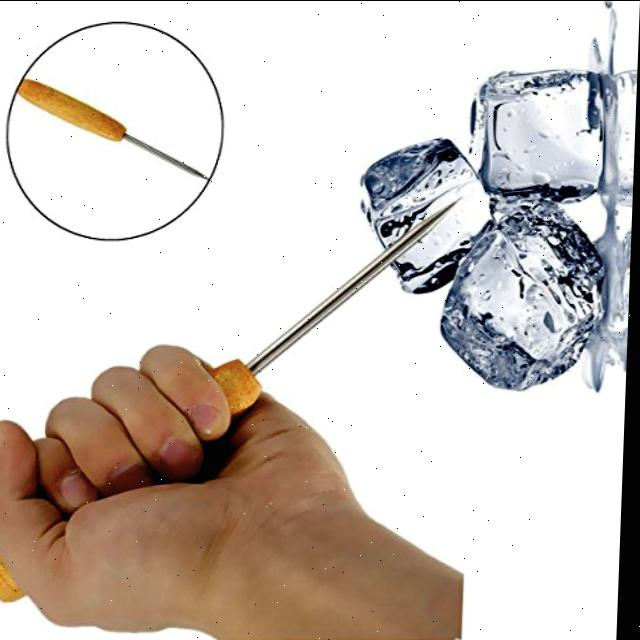ice pick: (0, 194, 464, 602), (17, 77, 214, 179)
